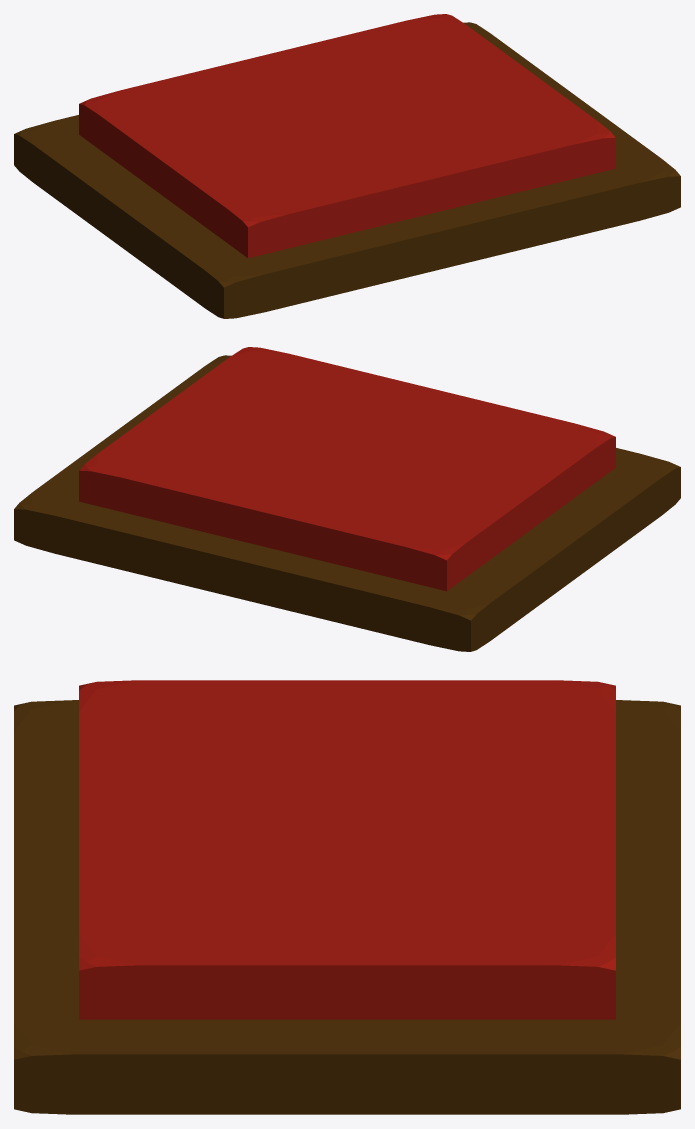
The model's file is Button_inactive.fbx.
3 renders of one model, top to bottom at view 1: azimuth 30°, elevation 25°; view 2: azimuth 150°, elevation 25°; view 3: azimuth 270°, elevation 25°, orthographic. The views are drawn at different scales.
Visible parts, largest first — view 1: Button2; view 2: Button2; view 3: Button2.
Boxes of the visible parts, <box> form: Button2: <box>14,14,680,318</box>; Button2: <box>14,347,680,651</box>; Button2: <box>14,680,680,1114</box>.
Bounding box in the file's own units: 18.03 × 2.73 × 14.35.
